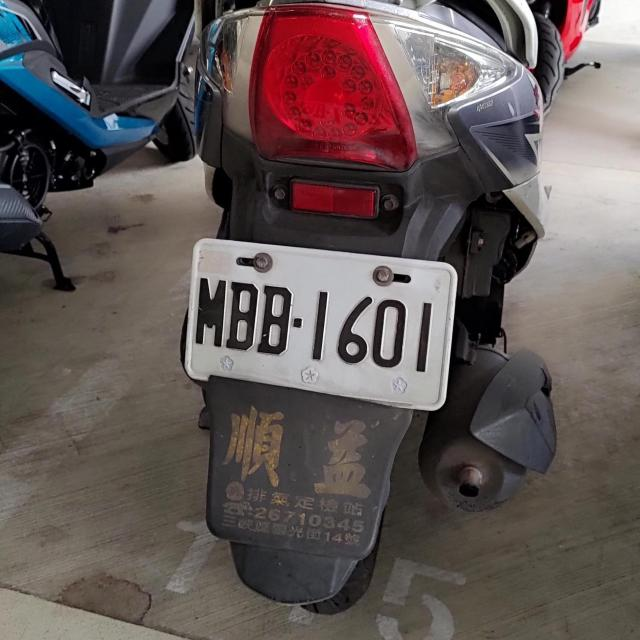W: (180, 241, 459, 403)
